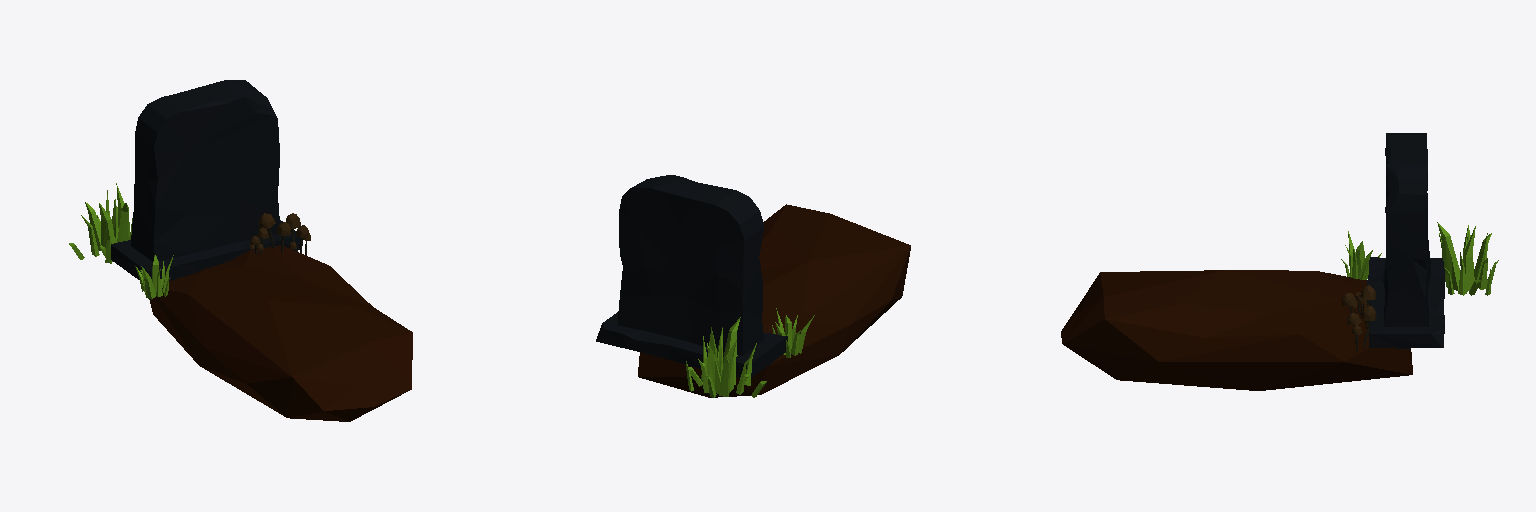
The model's file is tomb3.obj.
3 renders of one model, left to right at view 1: azimuth 30°, elevation 25°; view 2: azimuth 150°, elevation 25°; view 3: azimuth 270°, elevation 25°, orthographic.
Visible parts, largest first — view 1: Gravestone4_Cube.045; view 2: Gravestone4_Cube.045; view 3: Gravestone4_Cube.045.
Part boxes in pixels (x1,y1,x2,y2): Gravestone4_Cube.045: (69,80,412,421); Gravestone4_Cube.045: (596,175,910,397); Gravestone4_Cube.045: (1061,133,1498,390).
Size of the model in its own units: 2.55 by 2.9 by 5.19.